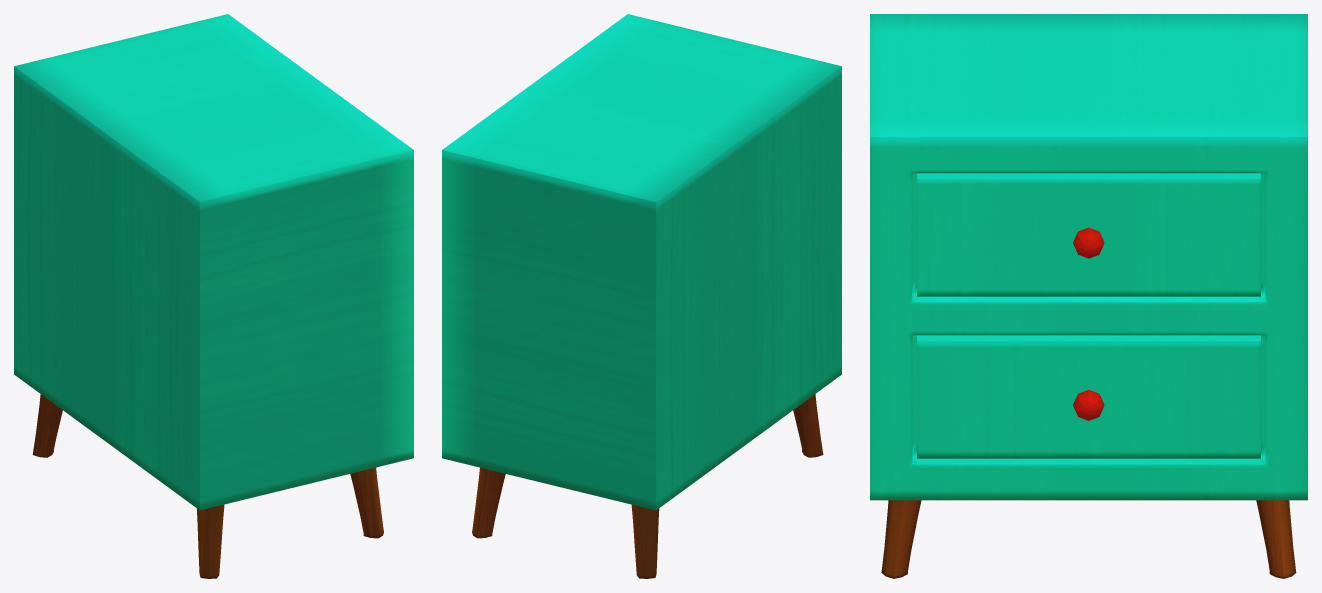
File: drawer-big.glb
3 renders of one model, left to right at view 1: azimuth 30°, elevation 25°; view 2: azimuth 150°, elevation 25°; view 3: azimuth 270°, elevation 25°, orthographic. The views are drawn at different scales.
Parts seen in each view (by area): view 1: room1_dresser_big; view 2: room1_dresser_big; view 3: room1_dresser_big.
Boxes of the visible parts, x1,y1,x2,y2 form: room1_dresser_big: [14, 14, 413, 578]; room1_dresser_big: [442, 14, 841, 578]; room1_dresser_big: [870, 14, 1307, 578].
Size of the model in its own units: 1.4 by 2.19 by 1.92.
Materials: 1 (1 with a texture image).
